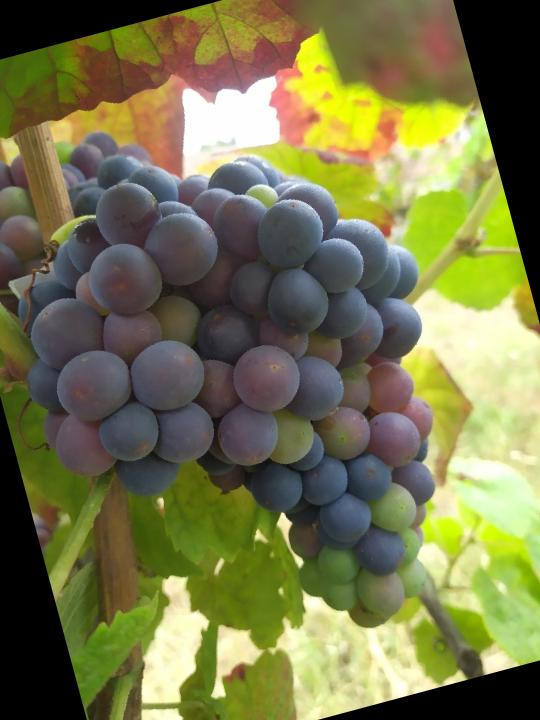grape: (0, 99, 509, 701)
